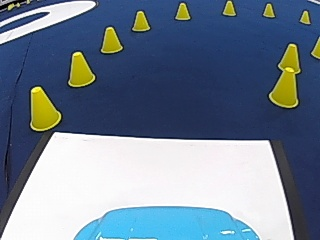cone: (267, 53, 300, 107), (28, 85, 61, 130), (67, 50, 95, 86), (278, 42, 301, 73), (99, 25, 122, 53), (131, 9, 150, 31), (174, 2, 190, 20), (221, 0, 236, 16), (310, 35, 319, 59), (261, 2, 275, 17), (299, 9, 310, 24)
